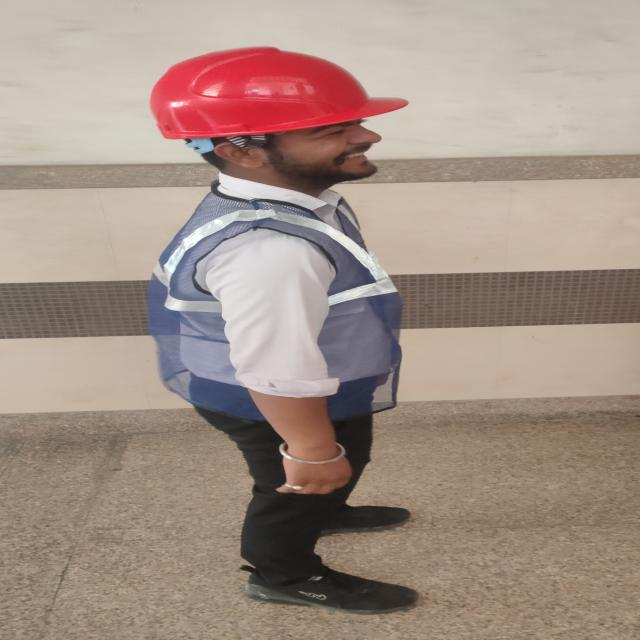safe: (148, 46, 410, 614)
